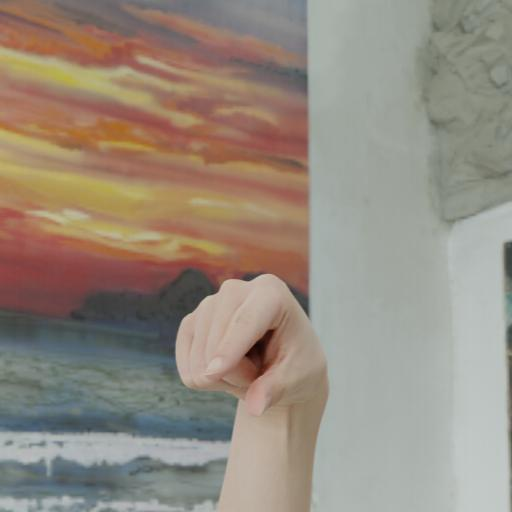Q: (172, 270, 336, 429)
